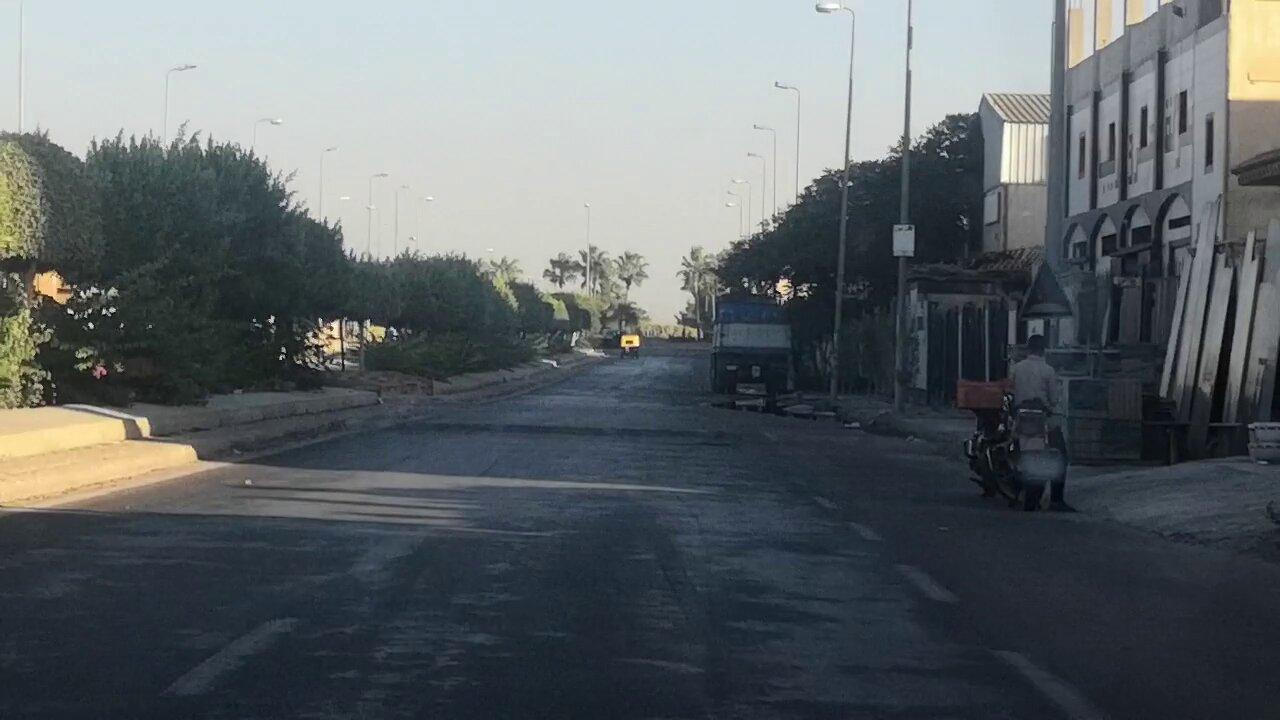Bump: (365, 417, 810, 447)
